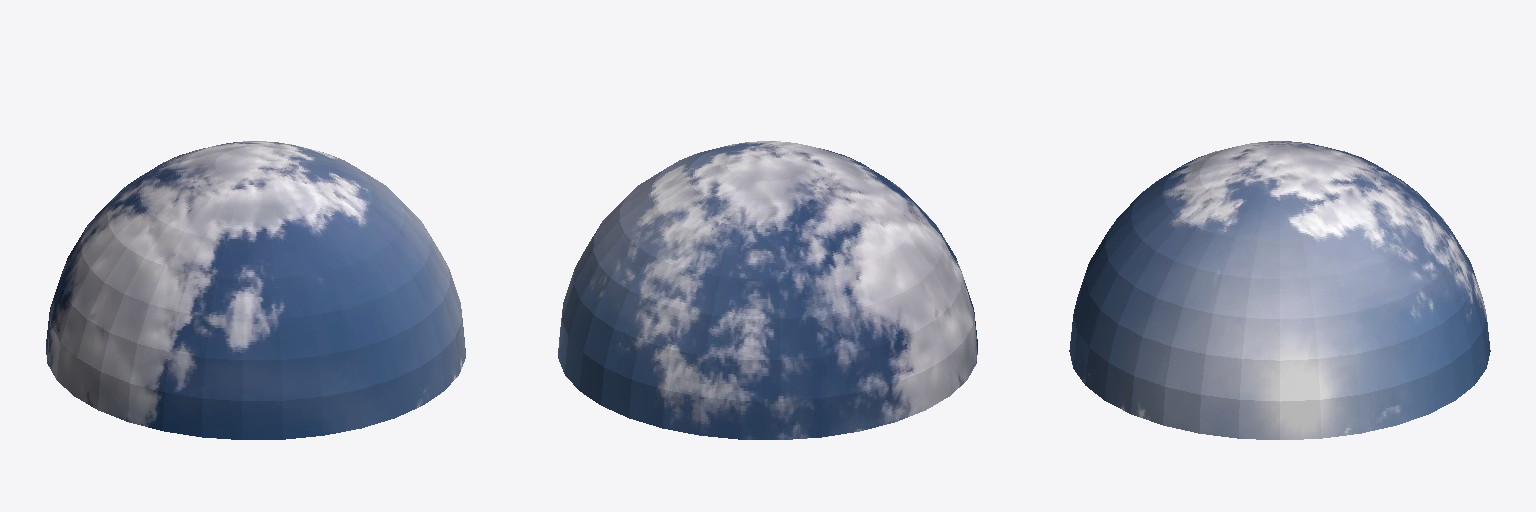
3 views of the same model, side by side, from view 1: azimuth 30°, elevation 25°; view 2: azimuth 150°, elevation 25°; view 3: azimuth 270°, elevation 25° (orthographic).
Parts seen in each view (by area): view 1: Sphere; view 2: Sphere; view 3: Sphere.
Part boxes in pixels (x1,y1,x2,y2): Sphere: (46,141,465,439); Sphere: (558,141,977,439); Sphere: (1069,141,1490,439).
Bounding box in the file's own units: 150 × 75 × 150.
Materials: 2 (1 with a texture image).